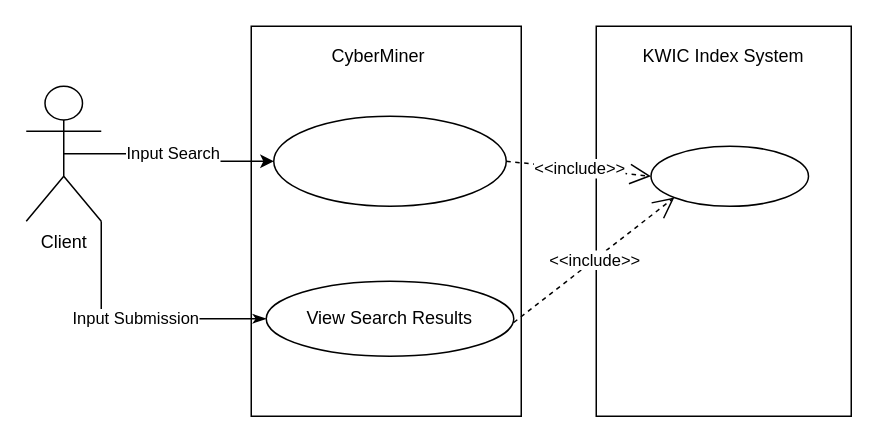
The diagram is 878 pixels wide and 443 high, and some of its shapes have lost their labels. Each missing label, with the box of its shape:
View Auto-Suggestions: (272, 115, 506, 206)
View Index: (650, 145, 808, 206)
